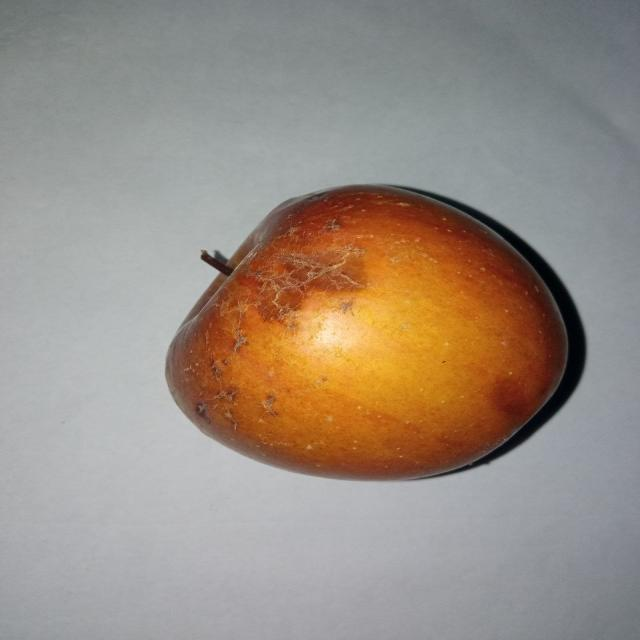rotten_apple: (163, 185, 568, 481)
